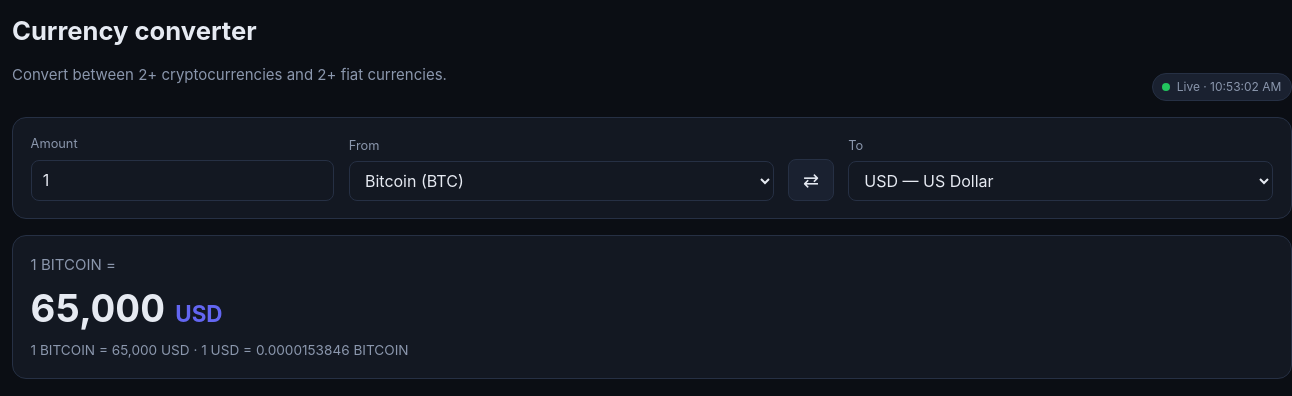
Test: Converter › debounces amount typing and recomputes
Expected: the element with test id "result" showing "65,000 USD" is shown, top-left (31, 284), bottom-right (223, 330)
Replace the text in the field labelled "Amount" with "2.5": (182, 180) top-left (31, 160), bottom-right (334, 201)
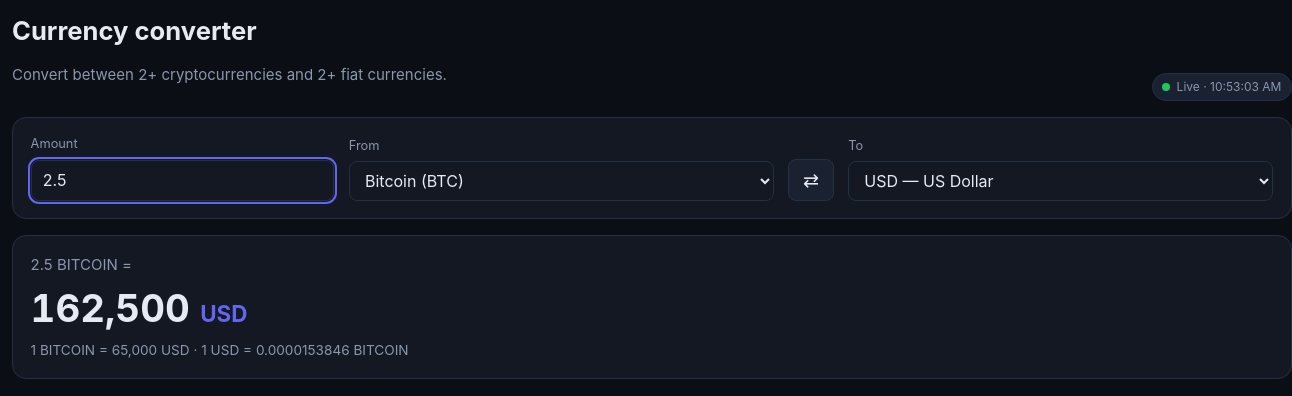
Now the element with test id "result" reads "162,500 USD", box top-left (31, 284), bottom-right (247, 330)
